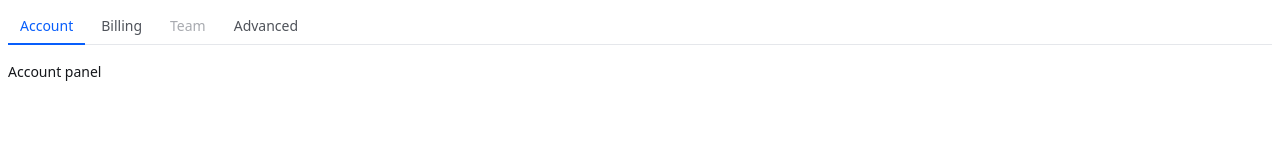
Scenario: Tabs › switches on click
The width and height of the screenshot is (1280, 160).
Step 1. Click the tab "Billing" → point(122, 26), box left=89, top=8, right=154, bottom=45
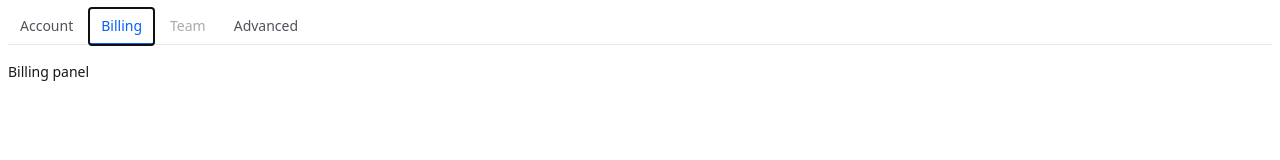
Now the text "Billing panel" is shown, box left=8, top=62, right=89, bottom=81
